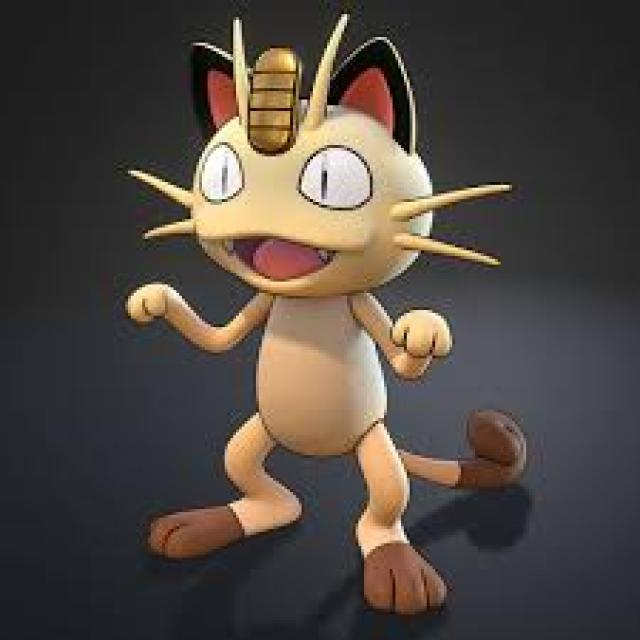Meowth: (181, 35, 433, 564)
